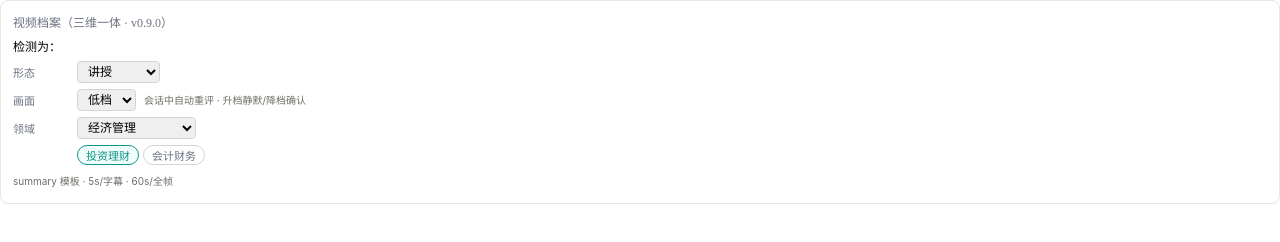
ProfileDetector v0.13.6 三维交互 › 批 7 T19 ①：改档 ⇒ 真写后端记忆（载荷逐字）+ 上报父级（start 第 5 参的来源）
Act：用户显式改档（高）
Select "rich" in the dropdown next to "会话中自动重评 · 升档静默/降档确认" at (106, 100), box [77, 89, 136, 111]
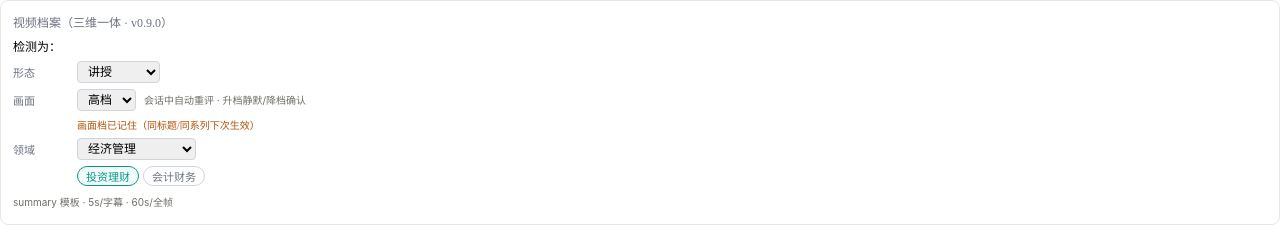
Check: the text "画面档已记住（同标题/同系列下次生效）" is shown, box [77, 120, 260, 131]
